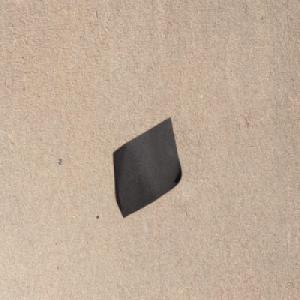PaintChip: (112, 115, 183, 219)
